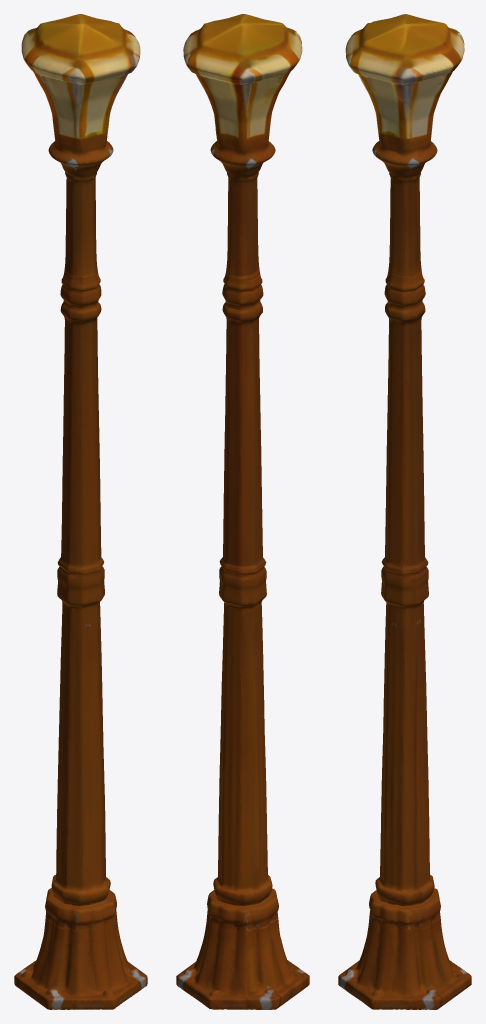
File: street_lamp.obj
3 renders of one model, left to right at view 1: azimuth 30°, elevation 25°; view 2: azimuth 150°, elevation 25°; view 3: azimuth 330°, elevation 25°, orthographic.
Parts seen in each view (by area): view 1: tripo_node_72c2ba01-ea8b-4948-bfa4-d3ca510d772a; view 2: tripo_node_72c2ba01-ea8b-4948-bfa4-d3ca510d772a; view 3: tripo_node_72c2ba01-ea8b-4948-bfa4-d3ca510d772a.
Boxes of the visible parts, x1=… form: tripo_node_72c2ba01-ea8b-4948-bfa4-d3ca510d772a: x1=14, y1=14, x2=147, y2=1009; tripo_node_72c2ba01-ea8b-4948-bfa4-d3ca510d772a: x1=176, y1=14, x2=309, y2=1009; tripo_node_72c2ba01-ea8b-4948-bfa4-d3ca510d772a: x1=338, y1=14, x2=471, y2=1009.
Bounding box in the file's own units: 0.117 × 1 × 0.1244.
Materials: 1 (1 with a texture image).
